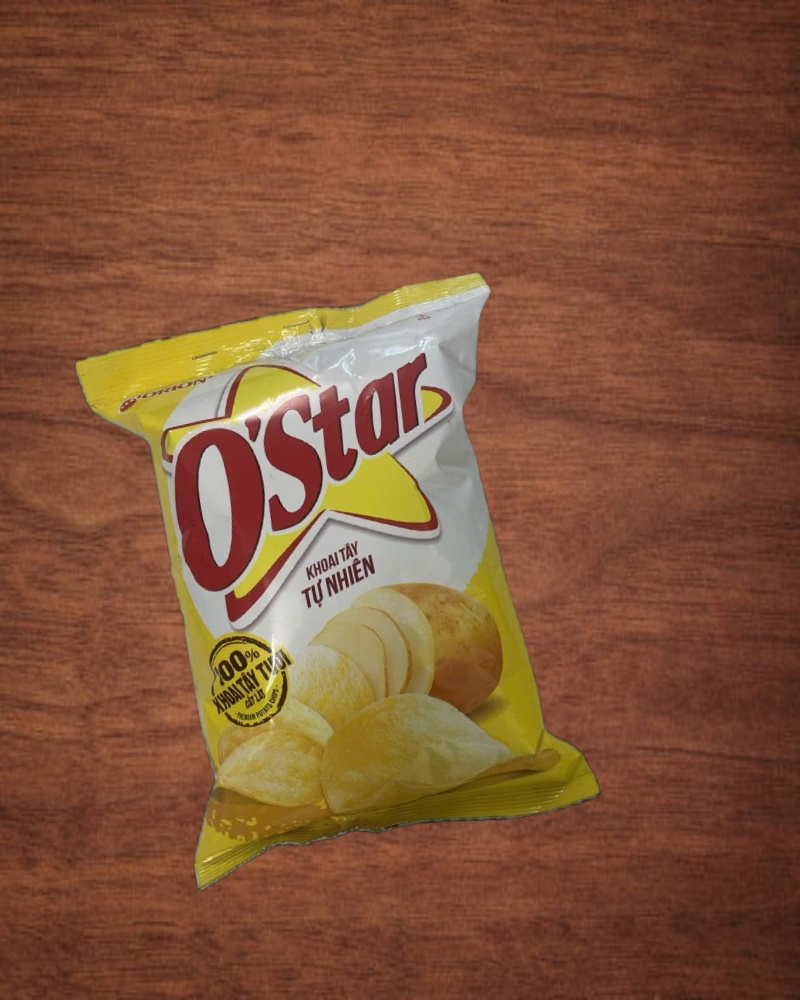O'star: (73, 267, 605, 896)
